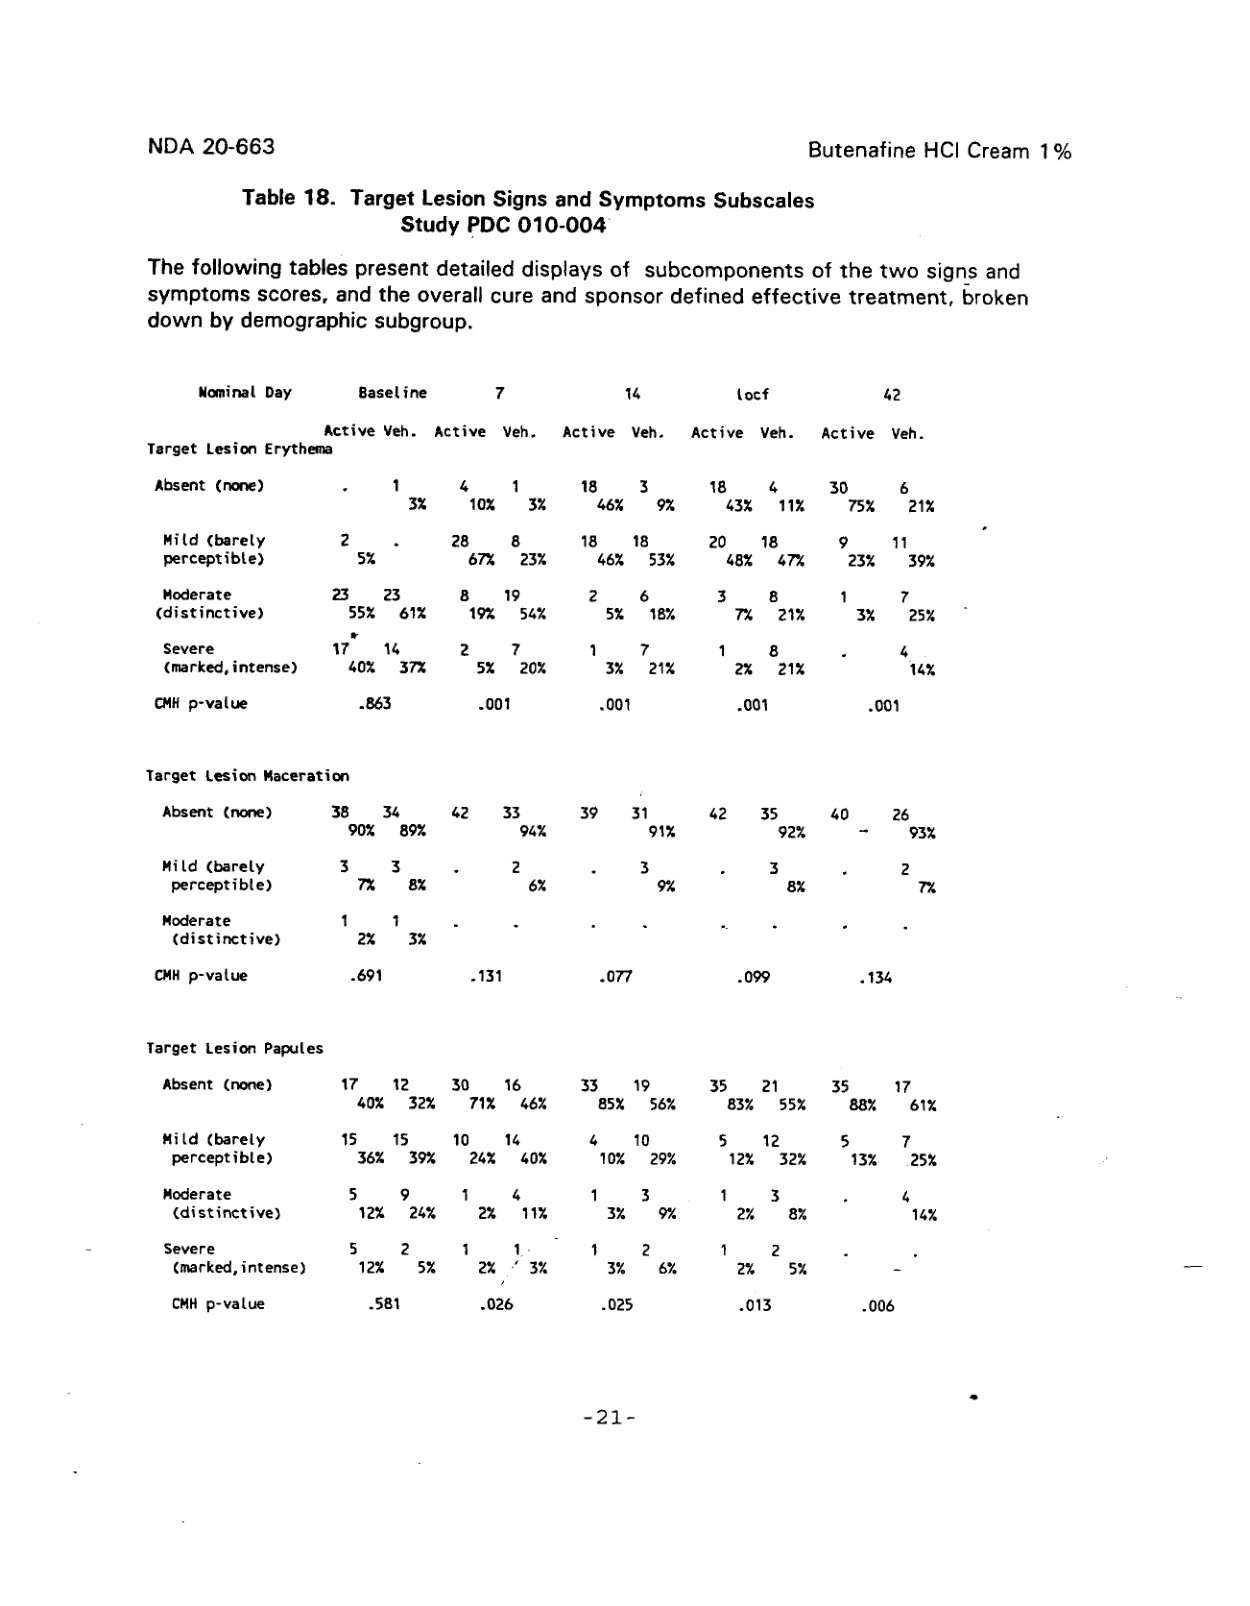nolines: (136, 381, 942, 1314)
